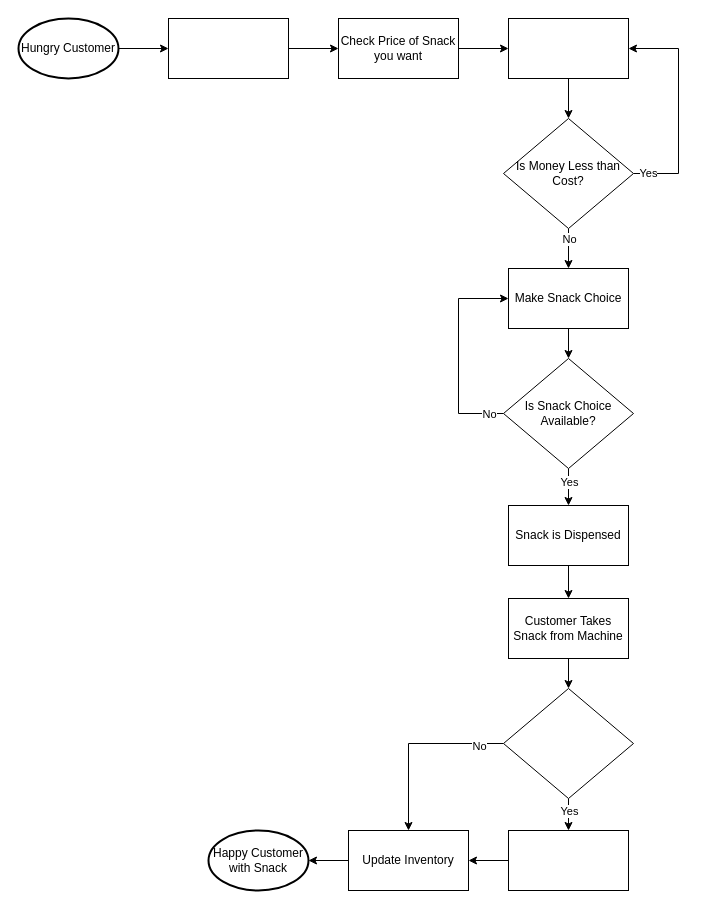
The diagram is 704 pixels wide and 908 high, and some of its shapes have lost their labels. The centre of each missing label's shape, as x and y in pixels:
"Dispense Change" goes at (x=568, y=860).
"Insert Money" goes at (x=568, y=48).
"Is Money > Cost?" goes at (x=568, y=743).
"Look at Choices of Snacks" goes at (x=228, y=48).
